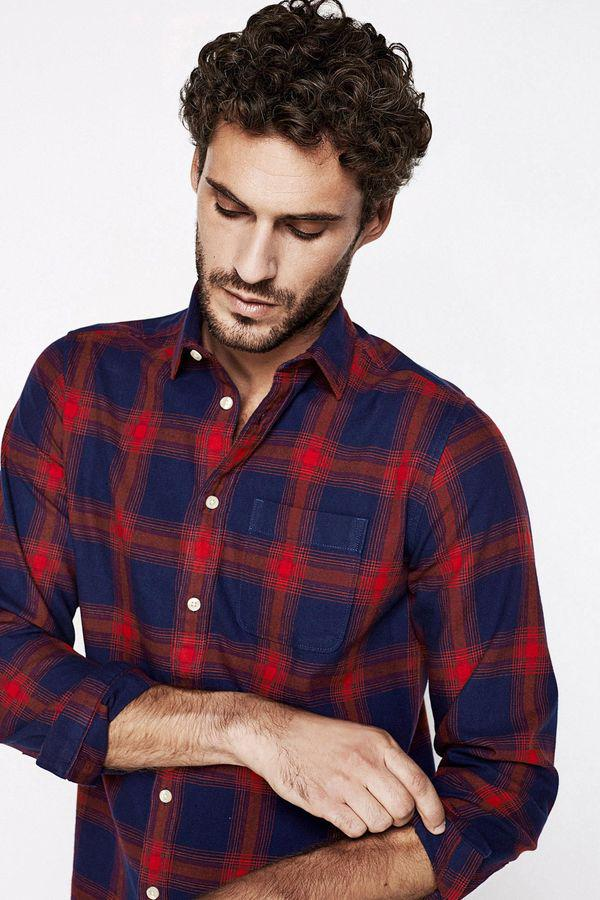teeshirt: (1, 285, 570, 900)
